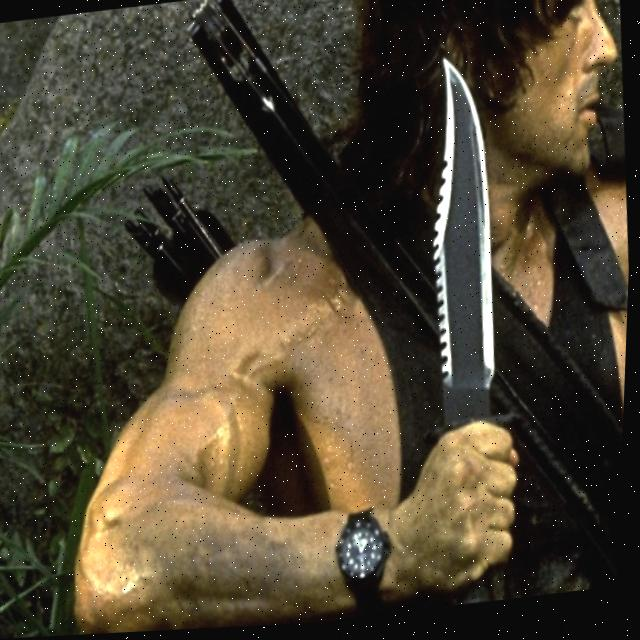knife: (402, 48, 532, 448)
